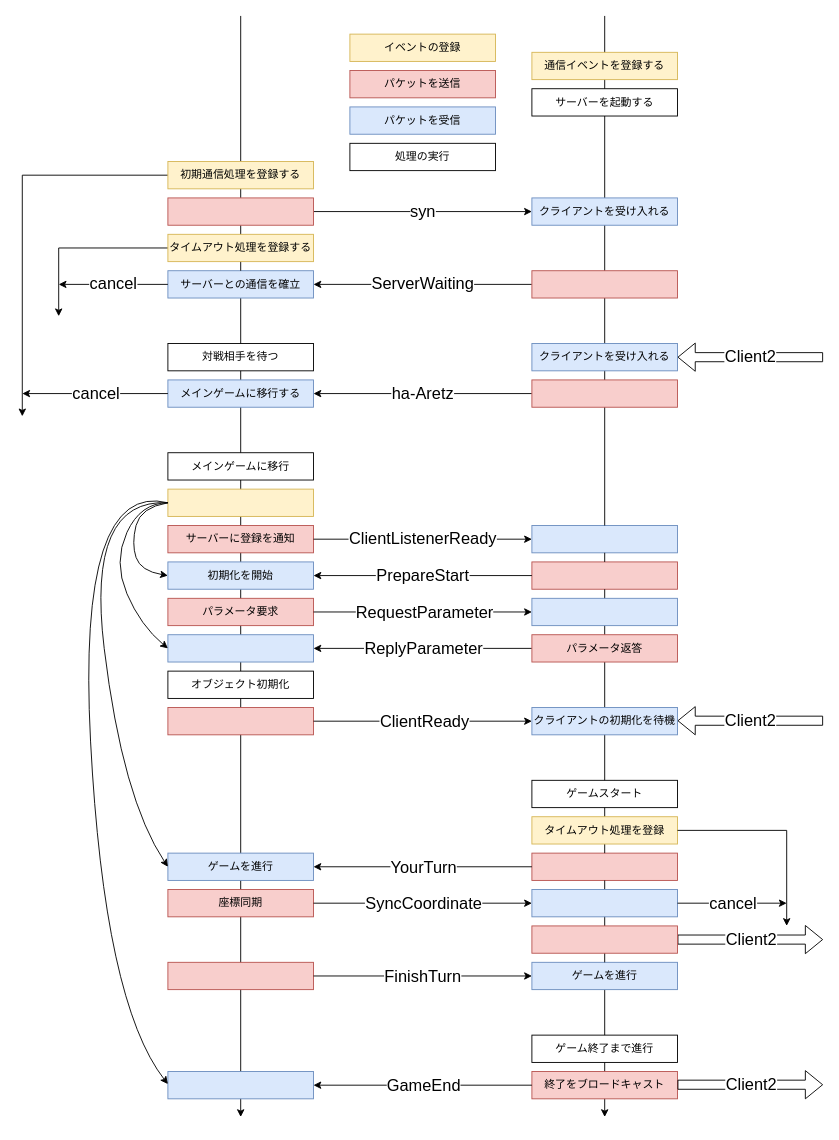
Some shapes in this 839 by 1140 pixel diagram are drawn without their labels. The centre of each missing label's shape, as x and y in pixels:
クライアントに通知する: the point at 604,284
クライアントの準備を待機: the point at 604,539
ゲーム終了状態に遷移: the point at 240,1085
サーバーの通信を開始する: the point at 240,211
パラメータ適応: the point at 240,648
メイン通信処理を登録する: the point at 240,502
初期化完了を通知: the point at 240,721
初期化開始を通知: the point at 604,575
座標をブロードキャスト: the point at 604,939
座標を受信: the point at 604,903
待機中クライアントに通知: the point at 604,393
手番の終了: the point at 240,975
手番を通知: the point at 604,866
要求を受諾: the point at 604,611
